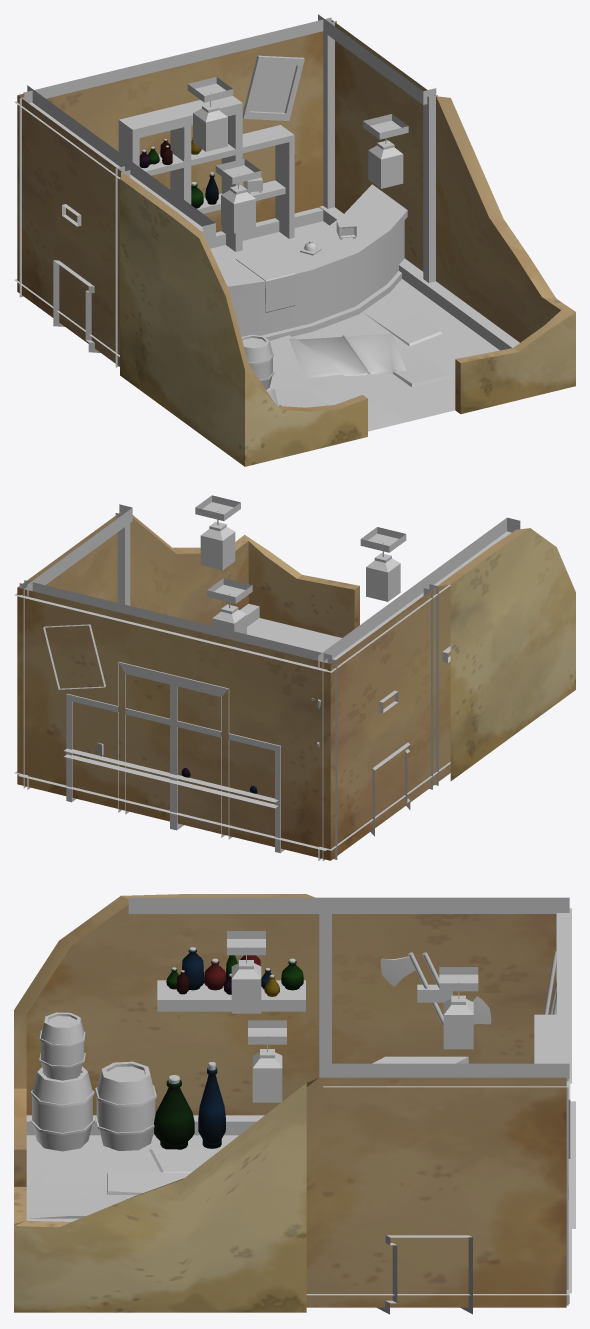
File: shop1_int.fbx
3 views of the same model, one above another, from view 1: azimuth 30°, elevation 25°; view 2: azimuth 150°, elevation 25°; view 3: azimuth 270°, elevation 25° (orthographic). The views are drawn at different scales.
Visible parts, largest first — view 1: Cube.001, Cube.000, Cube.010; view 2: Cube.001, Cube.000; view 3: Cube.001, Cube.000, Cube.010.
Boxes of the visible parts, x1,y1,x2,y2 form: Cube.001: (17, 20, 575, 466); Cube.000: (14, 14, 519, 431); Cube.010: (139, 137, 218, 208); Cube.001: (17, 504, 575, 860); Cube.000: (14, 495, 520, 860); Cube.001: (14, 894, 566, 1312); Cube.000: (26, 897, 575, 1314); Cube.010: (154, 949, 303, 1149).
Bounding box in the file's own units: 544 × 329 × 684.
